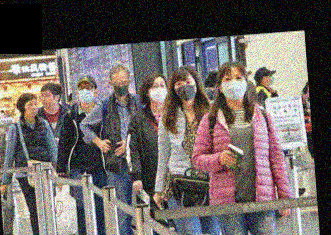with_mask: (221, 72, 247, 101), (173, 77, 197, 102), (147, 79, 167, 104), (76, 83, 94, 104), (111, 80, 130, 98), (265, 72, 275, 85)
without_mask: (24, 100, 39, 118), (39, 92, 52, 109)
